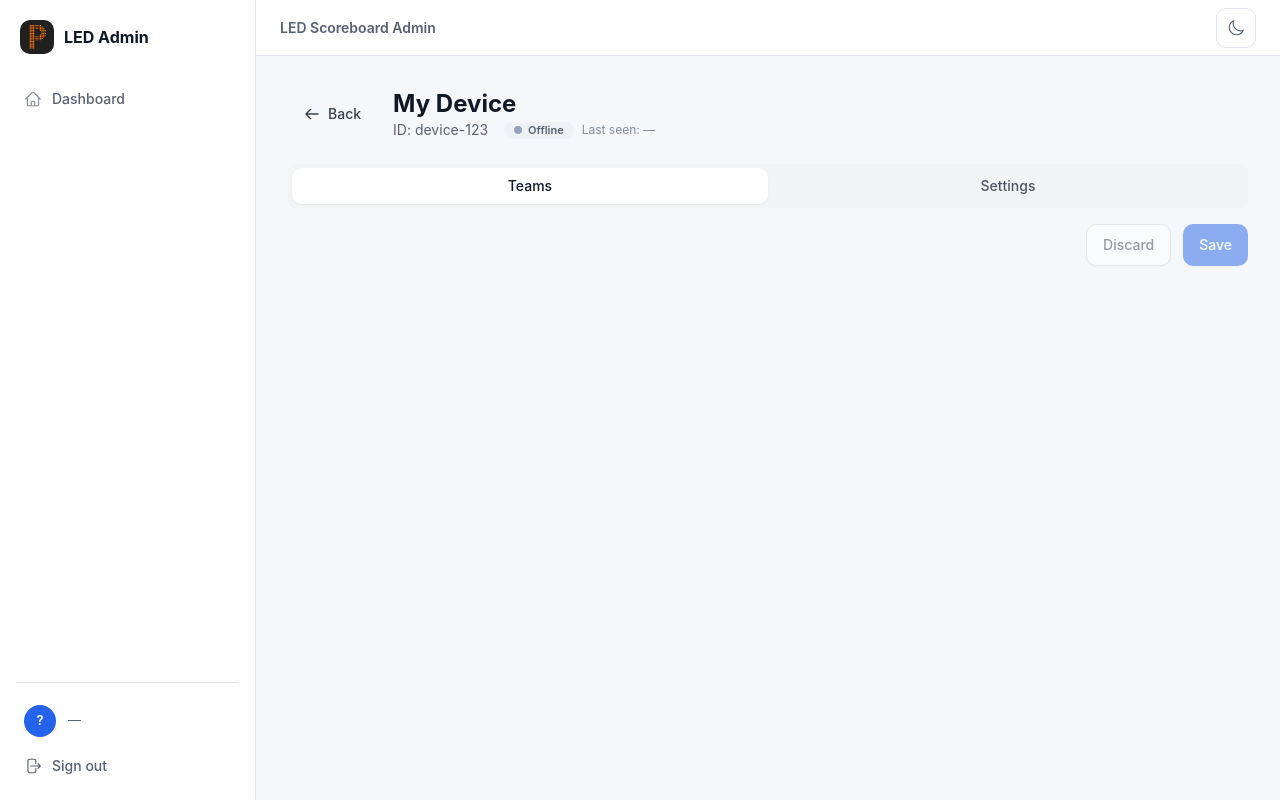
Test case: DevicePage – rename message live-region and fetch guard › shows "Save failed: <error>" with role=alert when PATCH returns a JSON error
Click the tab "Settings" at [1008, 186], box 772,168 -> 1244,204
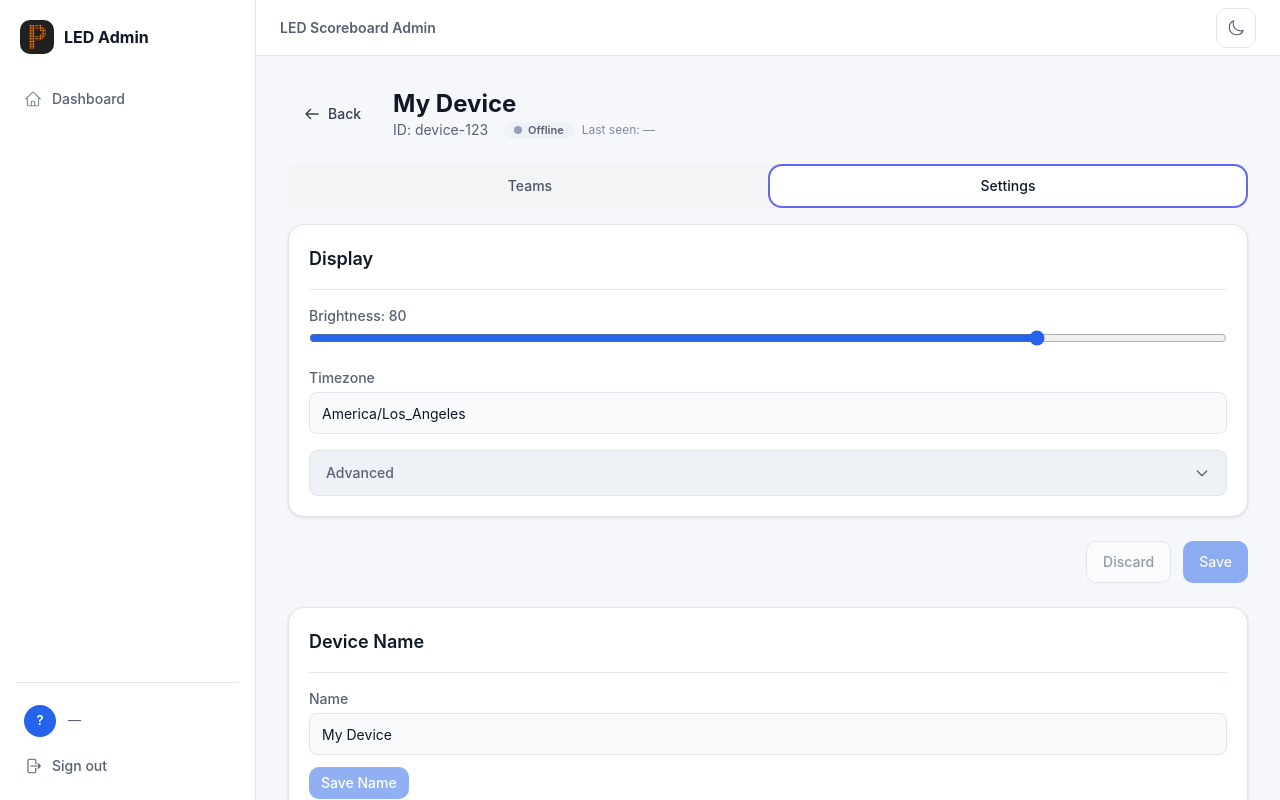
Replace the text in the field with placeholder "My Scoreboard" with "Valid Name" at [768, 734], box 309,713 -> 1227,755
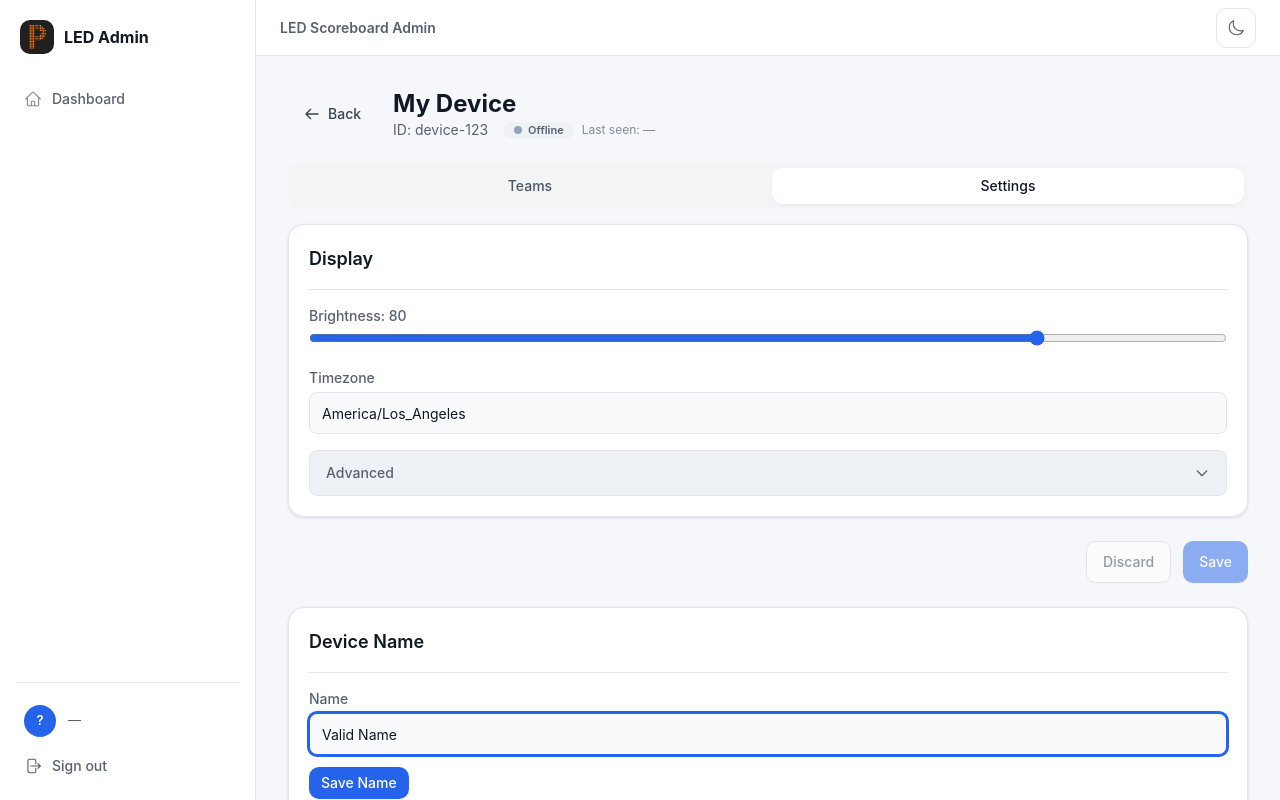
Click the button "Save Name" at [359, 783], box 309,767 -> 409,799
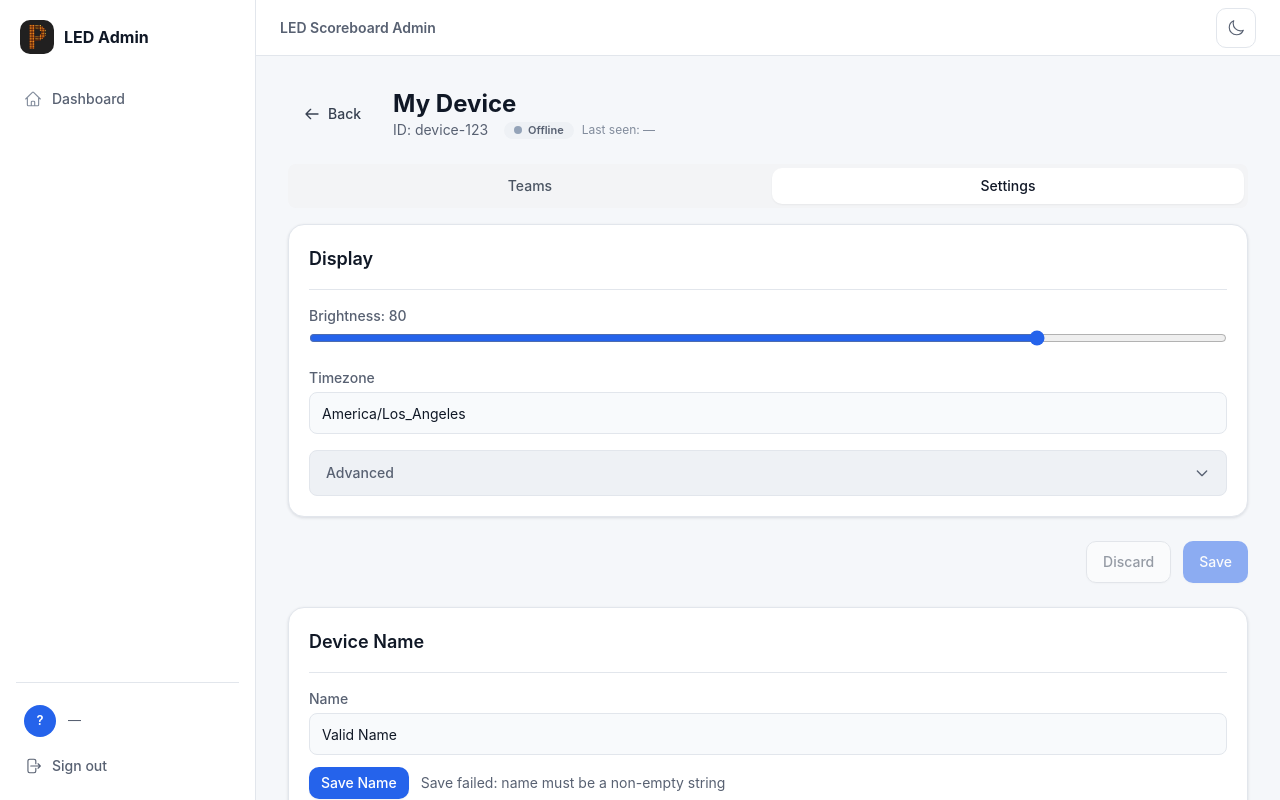
Now the message reads "Save failed: name must be a non-empty string", box 421,774 -> 725,791
